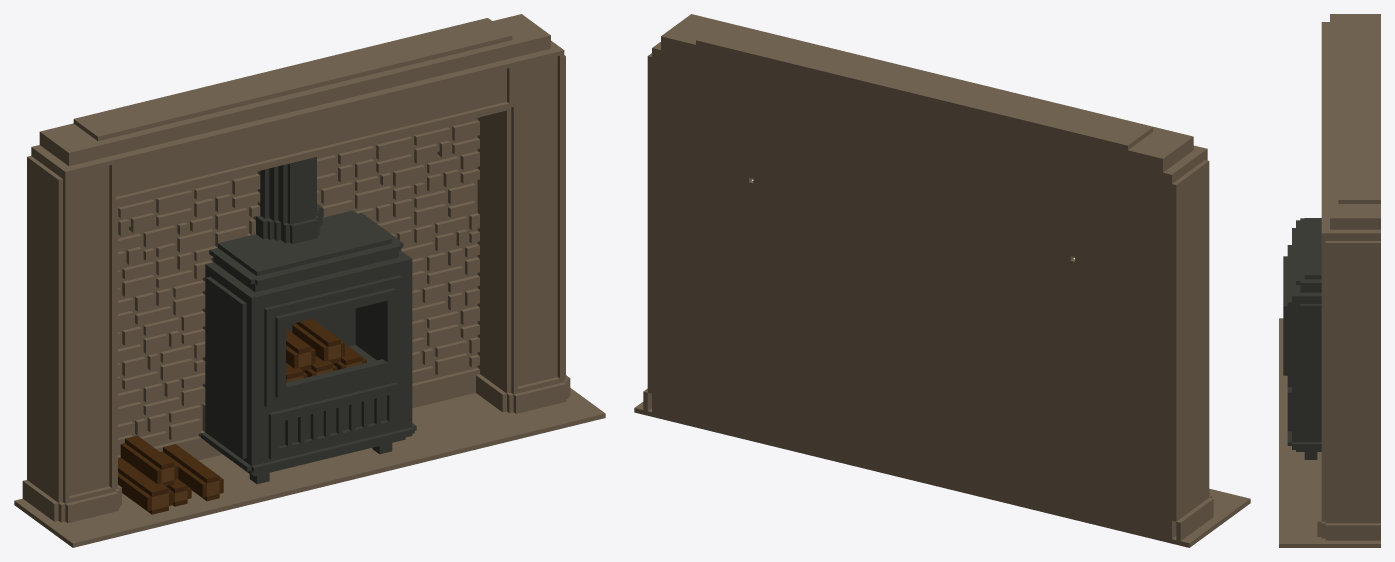
File: fireplace.obj
3 renders of one model, left to right at view 1: azimuth 30°, elevation 25°; view 2: azimuth 150°, elevation 25°; view 3: azimuth 270°, elevation 25°, orthographic. The views are drawn at different scales.
Size of the model in its own units: 126 by 84 by 24.
1 material, 1 textured.
